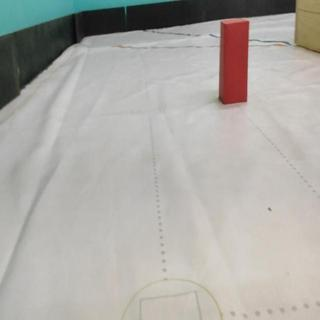redbox: (219, 17, 250, 107)
